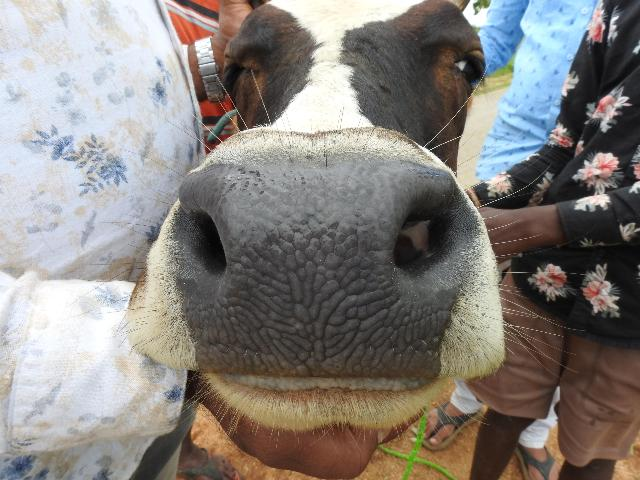Muzzle: (208, 166, 426, 376)
